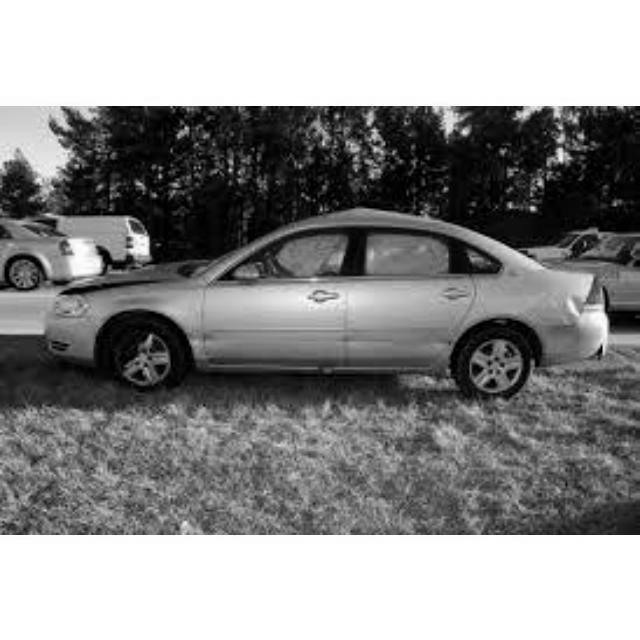doorouter-dent: (354, 287, 449, 373)
fender-dent: (169, 290, 208, 360)
quaterpanel-dent: (491, 269, 586, 329)
